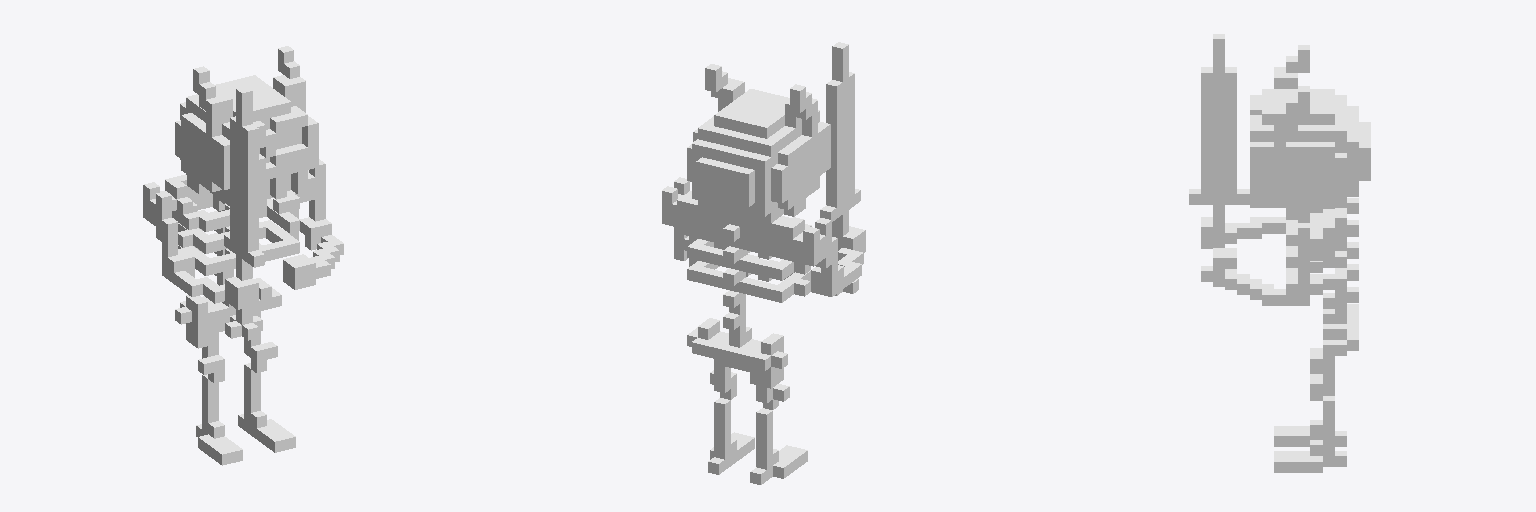
The model's file is SkeletonSwordmanModel.obj.
The picture shows the model from 3 angles: view 1: azimuth 30°, elevation 25°; view 2: azimuth 150°, elevation 25°; view 3: azimuth 270°, elevation 25°; orthographic projection.
Parts seen in each view (by area): view 1: object 1; view 2: object 1; view 3: object 1.
Part boxes in pixels (x1,y1,x2,y2): object 1: (143,46,343,465); object 1: (662,42,865,484); object 1: (1189,34,1370,472).
Bounding box in the file's own units: 1.5 × 3.6 × 1.5.